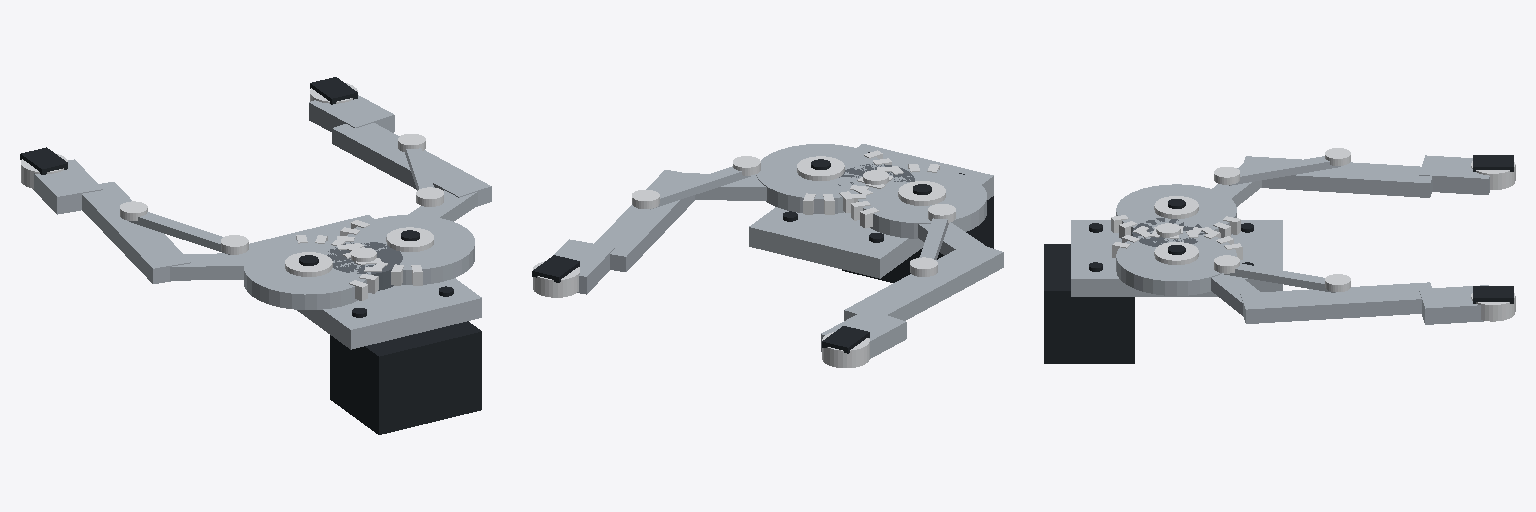
URDF robot description (photo_inspired_2dof_gripper):
<?xml version='1.0' encoding='utf-8'?>
<robot name="photo_inspired_2dof_gripper">
  <material name="aluminium">
    <color rgba="0.72 0.75 0.78 1" />
  </material>
  <material name="steel">
    <color rgba="0.42 0.45 0.48 1" />
  </material>
  <material name="dark_steel">
    <color rgba="0.18 0.20 0.22 1" />
  </material>
  <material name="bright_steel">
    <color rgba="0.88 0.89 0.90 1" />
  </material>
  <link name="gripper_base">
    <inertial>
      <origin xyz="0 0 0" />
      <mass value="0.045000" />
      <inertia ixx="0.00004000" ixy="0" ixz="0" iyy="0.00005000" iyz="0" izz="0.00004000" />
    </inertial>
    <visual>
      <origin xyz="0 0 0" />
      <geometry>
        <box size="0.070 0.105 0.010" />
      </geometry>
      <material name="aluminium" />
    </visual>
    <collision>
      <origin xyz="0 0 0" />
      <geometry>
        <box size="0.070 0.105 0.010" />
      </geometry>
    </collision>
    <visual>
      <origin xyz="0 -0.043 -0.025" />
      <geometry>
        <box size="0.055 0.045 0.040" />
      </geometry>
      <material name="dark_steel" />
    </visual>
    <visual>
      <origin xyz="0 -0.004 0.008" />
      <geometry>
        <cylinder radius="0.018" length="0.012" />
      </geometry>
      <material name="steel" />
    </visual>
    <visual>
      <origin xyz="0 -0.004 0.015" />
      <geometry>
        <cylinder radius="0.006" length="0.003" />
      </geometry>
      <material name="bright_steel" />
    </visual>
    <visual>
      <origin xyz="-0.023 -0.04 0.006" />
      <geometry>
        <cylinder radius="0.0035" length="0.002" />
      </geometry>
      <material name="dark_steel" />
    </visual>
    <visual>
      <origin xyz="-0.023 0.035 0.006" />
      <geometry>
        <cylinder radius="0.0035" length="0.002" />
      </geometry>
      <material name="dark_steel" />
    </visual>
    <visual>
      <origin xyz="0.023 -0.04 0.006" />
      <geometry>
        <cylinder radius="0.0035" length="0.002" />
      </geometry>
      <material name="dark_steel" />
    </visual>
    <visual>
      <origin xyz="0.023 0.035 0.006" />
      <geometry>
        <cylinder radius="0.0035" length="0.002" />
      </geometry>
      <material name="dark_steel" />
    </visual>
  </link>
  <link name="left_moving_jaw">
    <inertial>
      <origin xyz="0 0 0" />
      <mass value="0.028000" />
      <inertia ixx="0.00003000" ixy="0" ixz="0" iyy="0.00004000" iyz="0" izz="0.00003000" />
    </inertial>
    <visual>
      <origin xyz="0 0 0" />
      <geometry>
        <cylinder radius="0.030" length="0.008" />
      </geometry>
      <material name="aluminium" />
    </visual>
    <visual>
      <origin xyz="0 0 0.005" />
      <geometry>
        <cylinder radius="0.011" length="0.003" />
      </geometry>
      <material name="bright_steel" />
    </visual>
    <visual>
      <origin xyz="0 0 0.007" />
      <geometry>
        <cylinder radius="0.0045" length="0.002" />
      </geometry>
      <material name="dark_steel" />
    </visual>
    <visual>
      <origin xyz="0.01026 -0.02819 0.001" rpy="0 0 -1.22173" />
      <geometry>
        <box size="0.008 0.0045 0.007" />
      </geometry>
      <material name="bright_steel" />
    </visual>
    <visual>
      <origin xyz="0.01805 -0.02396 0.001" rpy="0 0 -0.92502" />
      <geometry>
        <box size="0.008 0.0045 0.007" />
      </geometry>
      <material name="bright_steel" />
    </visual>
    <visual>
      <origin xyz="0.02427 -0.01763 0.001" rpy="0 0 -0.62832" />
      <geometry>
        <box size="0.008 0.0045 0.007" />
      </geometry>
      <material name="bright_steel" />
    </visual>
    <visual>
      <origin xyz="0.02837 -0.00977 0.001" rpy="0 0 -0.33161" />
      <geometry>
        <box size="0.008 0.0045 0.007" />
      </geometry>
      <material name="bright_steel" />
    </visual>
    <visual>
      <origin xyz="0.02998 -0.00105 0.001" rpy="0 0 -0.03491" />
      <geometry>
        <box size="0.008 0.0045 0.007" />
      </geometry>
      <material name="bright_steel" />
    </visual>
    <visual>
      <origin xyz="0.02898 0.00776 0.001" rpy="0 0 0.26180" />
      <geometry>
        <box size="0.008 0.0045 0.007" />
      </geometry>
      <material name="bright_steel" />
    </visual>
    <visual>
      <origin xyz="0.02544 0.01590 0.001" rpy="0 0 0.55851" />
      <geometry>
        <box size="0.008 0.0045 0.007" />
      </geometry>
      <material name="bright_steel" />
    </visual>
    <visual>
      <origin xyz="0.01968 0.02264 0.001" rpy="0 0 0.85521" />
      <geometry>
        <box size="0.008 0.0045 0.007" />
      </geometry>
      <material name="bright_steel" />
    </visual>
    <visual>
      <origin xyz="0.01220 0.02741 0.001" rpy="0 0 1.15192" />
      <geometry>
        <box size="0.008 0.0045 0.007" />
      </geometry>
      <material name="bright_steel" />
    </visual>
    <visual>
      <origin xyz="-0.02500 0.025 0.000" rpy="0 0 -0.48869" />
      <geometry>
        <box size="0.060 0.014 0.007" />
      </geometry>
      <material name="aluminium" />
    </visual>
    <visual>
      <origin xyz="-0.04700 0.080 0.000" rpy="0 0 -0.13963" />
      <geometry>
        <box size="0.019 0.095 0.008" />
      </geometry>
      <material name="aluminium" />
    </visual>
    <visual>
      <origin xyz="-0.04900 0.139 0.000" rpy="0 0 -0.13963" />
      <geometry>
        <box size="0.023 0.035 0.009" />
      </geometry>
      <material name="aluminium" />
    </visual>
    <visual>
      <origin xyz="-0.05000 0.157 0.001" />
      <geometry>
        <cylinder radius="0.011" length="0.009" />
      </geometry>
      <material name="bright_steel" />
    </visual>
    <visual>
      <origin xyz="-0.05000 0.157 0.006" />
      <geometry>
        <box size="0.014 0.020 0.003" />
      </geometry>
      <material name="dark_steel" />
    </visual>
    <collision>
      <origin xyz="0 0 0" />
      <geometry>
        <cylinder radius="0.030" length="0.008" />
      </geometry>
    </collision>
    <collision>
      <origin xyz="-0.04700 0.080 0" rpy="0 0 -0.13963" />
      <geometry>
        <box size="0.019 0.095 0.008" />
      </geometry>
    </collision>
    <visual>
      <origin xyz="-0.036000 0.052500 0.009" rpy="0 0 1.951303" />
      <geometry>
        <box size="0.059237 0.007 0.004" />
      </geometry>
      <material name="aluminium" />
    </visual>
    <visual>
      <origin xyz="-0.025000 0.025000 0.011" />
      <geometry>
        <cylinder radius="0.0065" length="0.004" />
      </geometry>
      <material name="bright_steel" />
    </visual>
    <visual>
      <origin xyz="-0.047000 0.080000 0.011" />
      <geometry>
        <cylinder radius="0.0065" length="0.004" />
      </geometry>
      <material name="bright_steel" />
    </visual>
  </link>
  <link name="right_moving_jaw">
    <inertial>
      <origin xyz="0 0 0" />
      <mass value="0.028000" />
      <inertia ixx="0.00003000" ixy="0" ixz="0" iyy="0.00004000" iyz="0" izz="0.00003000" />
    </inertial>
    <visual>
      <origin xyz="0 0 0" />
      <geometry>
        <cylinder radius="0.030" length="0.008" />
      </geometry>
      <material name="aluminium" />
    </visual>
    <visual>
      <origin xyz="0 0 0.005" />
      <geometry>
        <cylinder radius="0.011" length="0.003" />
      </geometry>
      <material name="bright_steel" />
    </visual>
    <visual>
      <origin xyz="0 0 0.007" />
      <geometry>
        <cylinder radius="0.0045" length="0.002" />
      </geometry>
      <material name="dark_steel" />
    </visual>
    <visual>
      <origin xyz="-0.01026 0.02819 0.001" rpy="0 0 1.91986" />
      <geometry>
        <box size="0.008 0.0045 0.007" />
      </geometry>
      <material name="bright_steel" />
    </visual>
    <visual>
      <origin xyz="-0.01805 0.02396 0.001" rpy="0 0 2.21657" />
      <geometry>
        <box size="0.008 0.0045 0.007" />
      </geometry>
      <material name="bright_steel" />
    </visual>
    <visual>
      <origin xyz="-0.02427 0.01763 0.001" rpy="0 0 2.51327" />
      <geometry>
        <box size="0.008 0.0045 0.007" />
      </geometry>
      <material name="bright_steel" />
    </visual>
    <visual>
      <origin xyz="-0.02837 0.00977 0.001" rpy="0 0 2.80998" />
      <geometry>
        <box size="0.008 0.0045 0.007" />
      </geometry>
      <material name="bright_steel" />
    </visual>
    <visual>
      <origin xyz="-0.02998 0.00105 0.001" rpy="0 0 3.10669" />
      <geometry>
        <box size="0.008 0.0045 0.007" />
      </geometry>
      <material name="bright_steel" />
    </visual>
    <visual>
      <origin xyz="-0.02898 -0.00776 0.001" rpy="0 0 3.40339" />
      <geometry>
        <box size="0.008 0.0045 0.007" />
      </geometry>
      <material name="bright_steel" />
    </visual>
    <visual>
      <origin xyz="-0.02544 -0.01590 0.001" rpy="0 0 3.70010" />
      <geometry>
        <box size="0.008 0.0045 0.007" />
      </geometry>
      <material name="bright_steel" />
    </visual>
    <visual>
      <origin xyz="-0.01968 -0.02264 0.001" rpy="0 0 3.99680" />
      <geometry>
        <box size="0.008 0.0045 0.007" />
      </geometry>
      <material name="bright_steel" />
    </visual>
    <visual>
      <origin xyz="-0.01220 -0.02741 0.001" rpy="0 0 4.29351" />
      <geometry>
        <box size="0.008 0.0045 0.007" />
      </geometry>
      <material name="bright_steel" />
    </visual>
    <visual>
      <origin xyz="0.02500 0.025 0.000" rpy="0 0 0.48869" />
      <geometry>
        <box size="0.060 0.014 0.007" />
      </geometry>
      <material name="aluminium" />
    </visual>
    <visual>
      <origin xyz="0.04700 0.080 0.000" rpy="0 0 0.13963" />
      <geometry>
        <box size="0.019 0.095 0.008" />
      </geometry>
      <material name="aluminium" />
    </visual>
    <visual>
      <origin xyz="0.04900 0.139 0.000" rpy="0 0 0.13963" />
      <geometry>
        <box size="0.023 0.035 0.009" />
      </geometry>
      <material name="aluminium" />
    </visual>
    <visual>
      <origin xyz="0.05000 0.157 0.001" />
      <geometry>
        <cylinder radius="0.011" length="0.009" />
      </geometry>
      <material name="bright_steel" />
    </visual>
    <visual>
      <origin xyz="0.05000 0.157 0.006" />
      <geometry>
        <box size="0.014 0.020 0.003" />
      </geometry>
      <material name="dark_steel" />
    </visual>
    <collision>
      <origin xyz="0 0 0" />
      <geometry>
        <cylinder radius="0.030" length="0.008" />
      </geometry>
    </collision>
    <collision>
      <origin xyz="0.04700 0.080 0" rpy="0 0 0.13963" />
      <geometry>
        <box size="0.019 0.095 0.008" />
      </geometry>
    </collision>
    <visual>
      <origin xyz="0.036000 0.052500 0.009" rpy="0 0 1.190290" />
      <geometry>
        <box size="0.059237 0.007 0.004" />
      </geometry>
      <material name="aluminium" />
    </visual>
    <visual>
      <origin xyz="0.025000 0.025000 0.011" />
      <geometry>
        <cylinder radius="0.0065" length="0.004" />
      </geometry>
      <material name="bright_steel" />
    </visual>
    <visual>
      <origin xyz="0.047000 0.080000 0.011" />
      <geometry>
        <cylinder radius="0.0065" length="0.004" />
      </geometry>
      <material name="bright_steel" />
    </visual>
  </link>
  <joint name="left_gear_joint" type="revolute">
    <parent link="gripper_base" />
    <child link="left_moving_jaw" />
    <origin xyz="-0.027 0.000 0.010" />
    <axis xyz="0 0 1" />
    <limit lower="-0.55" upper="0.55" effort="2.0" velocity="2.0" />
    <dynamics damping="0.08" friction="0.01" />
  </joint>
  <joint name="right_gear_joint" type="revolute">
    <parent link="gripper_base" />
    <child link="right_moving_jaw" />
    <origin xyz="0.027 0.000 0.010" />
    <axis xyz="0 0 1" />
    <limit lower="-0.55" upper="0.55" effort="2.0" velocity="2.0" />
    <dynamics damping="0.08" friction="0.01" />
    <mimic joint="left_gear_joint" multiplier="-1.0" offset="0" />
  </joint>
</robot>

--- Facts derived from the render (not from the file) ---
3 views of the same robot in one strip: view 1: azimuth 30°, elevation 25°; view 2: azimuth 150°, elevation 25°; view 3: azimuth 270°, elevation 25° (orthographic).
Model photo_inspired_2dof_gripper with 3 links and 2 joints (2 revolute), rooted at gripper_base, posed all joints at 0.
Links seen in each view (by area): view 1: gripper_base, left_moving_jaw, right_moving_jaw; view 2: left_moving_jaw, right_moving_jaw, gripper_base; view 3: right_moving_jaw, left_moving_jaw, gripper_base.
Boxes of the visible links, x1,y1,x2,y2 form: gripper_base: (246, 215, 481, 434); left_moving_jaw: (20, 147, 382, 309); right_moving_jaw: (309, 77, 491, 285); left_moving_jaw: (821, 164, 1003, 367); right_moving_jaw: (532, 144, 894, 297); gripper_base: (749, 144, 993, 282); right_moving_jaw: (1112, 226, 1515, 324); left_moving_jaw: (1111, 148, 1515, 238); gripper_base: (1044, 218, 1282, 363).
Bounding box of the posed robot: 0.18 × 0.2335 × 0.068 m (x, y, z).
Geometry: primitives only (box / cylinder / sphere), no mesh files.
